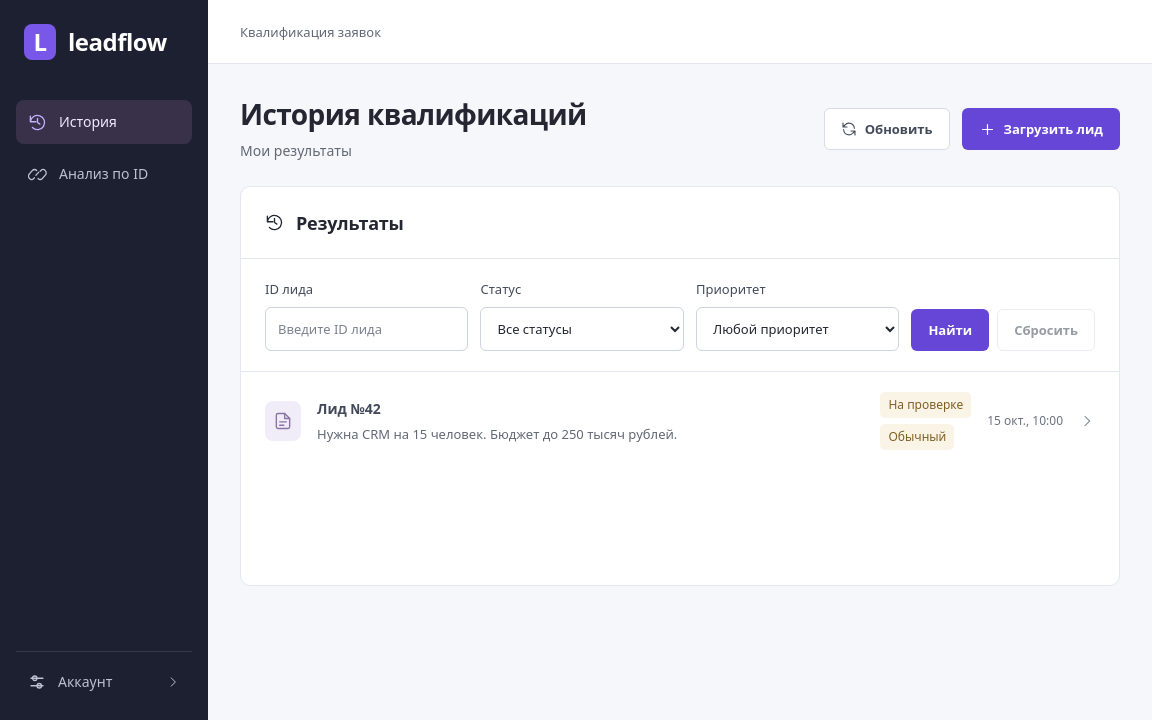
Test case: qualification interface › restores an explicit source when opening a saved result
The image size is (1152, 720).
Step 1. Click the button "История" → (104, 122), box [16,100,192,144]
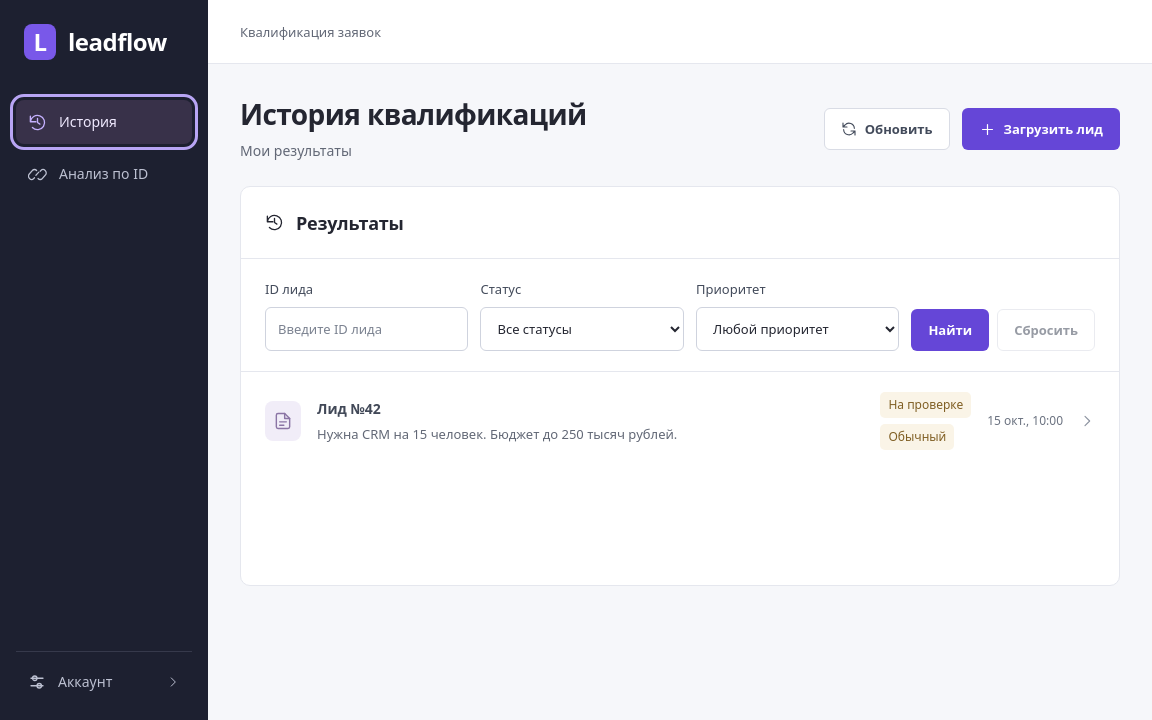
Step 2. Click the button that starts with "Лид №42" → (283, 421), box [241,372,1119,470]
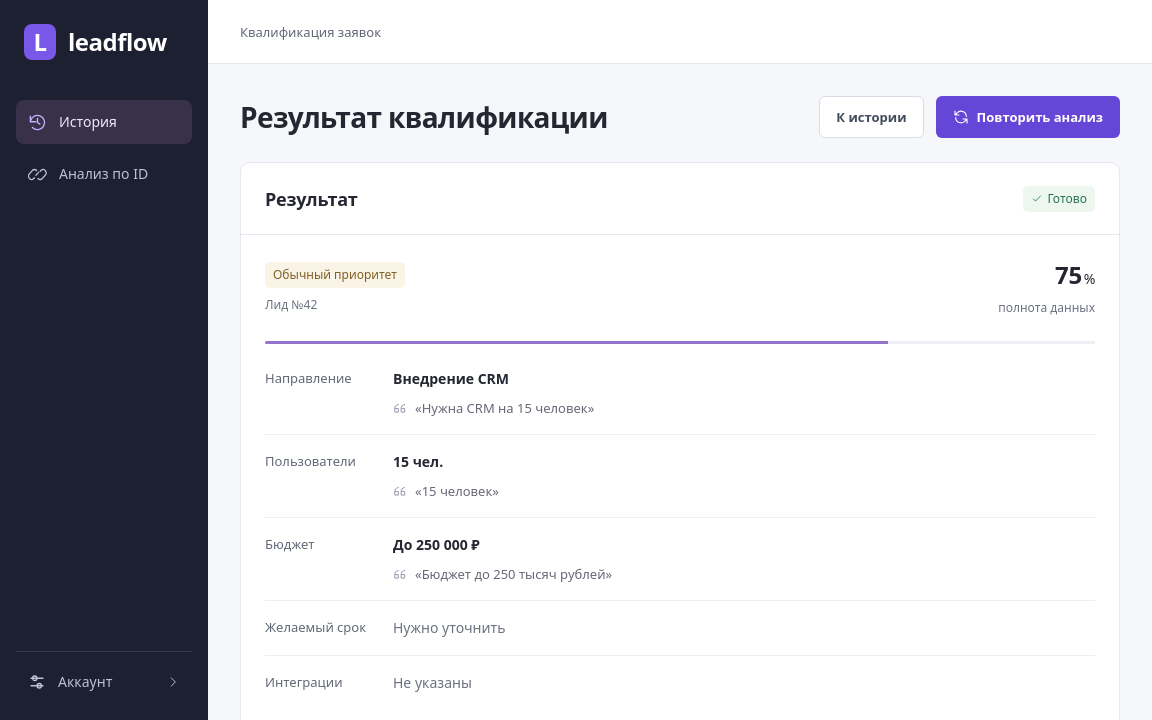
Expected: the field labelled "ID лида в Битрикс24" is not shown
Expected: the heading "Результат квалификации" is shown, [240,99,608,135]
Step 3. Click the button "Повторить анализ" → (1028, 117), box [936,96,1120,138]
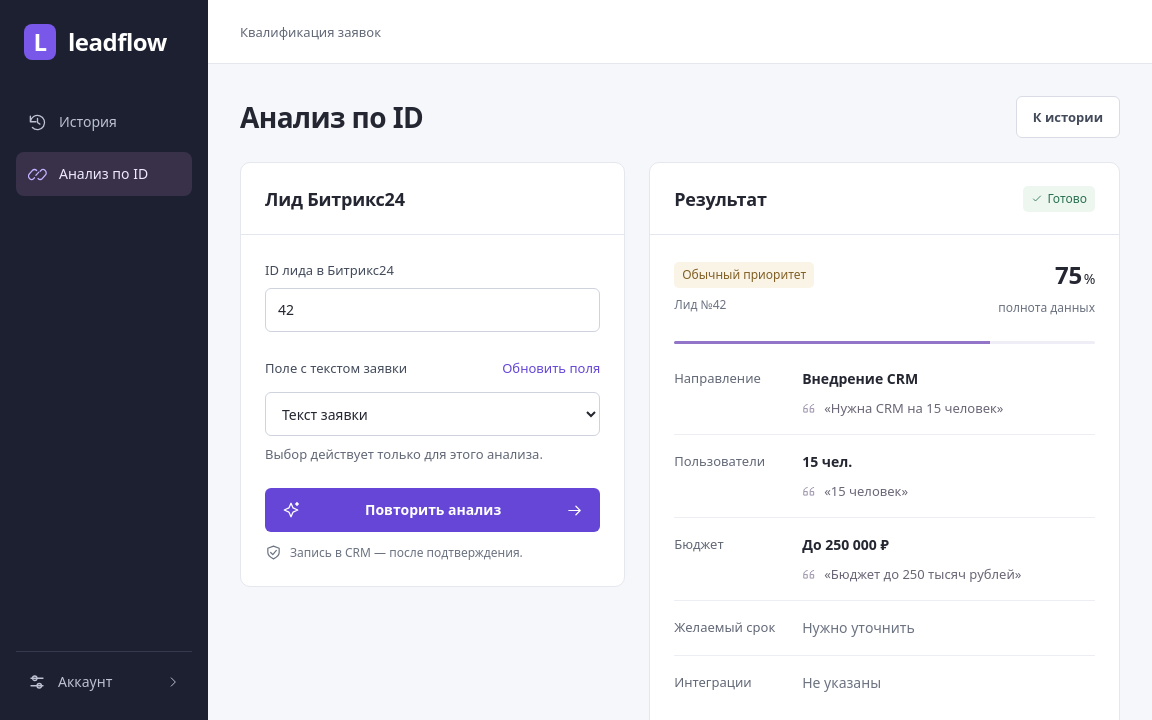
Expected: the dropdown labelled "Поле с текстом заявки" shows "Текст заявки", [265,392,600,436]
